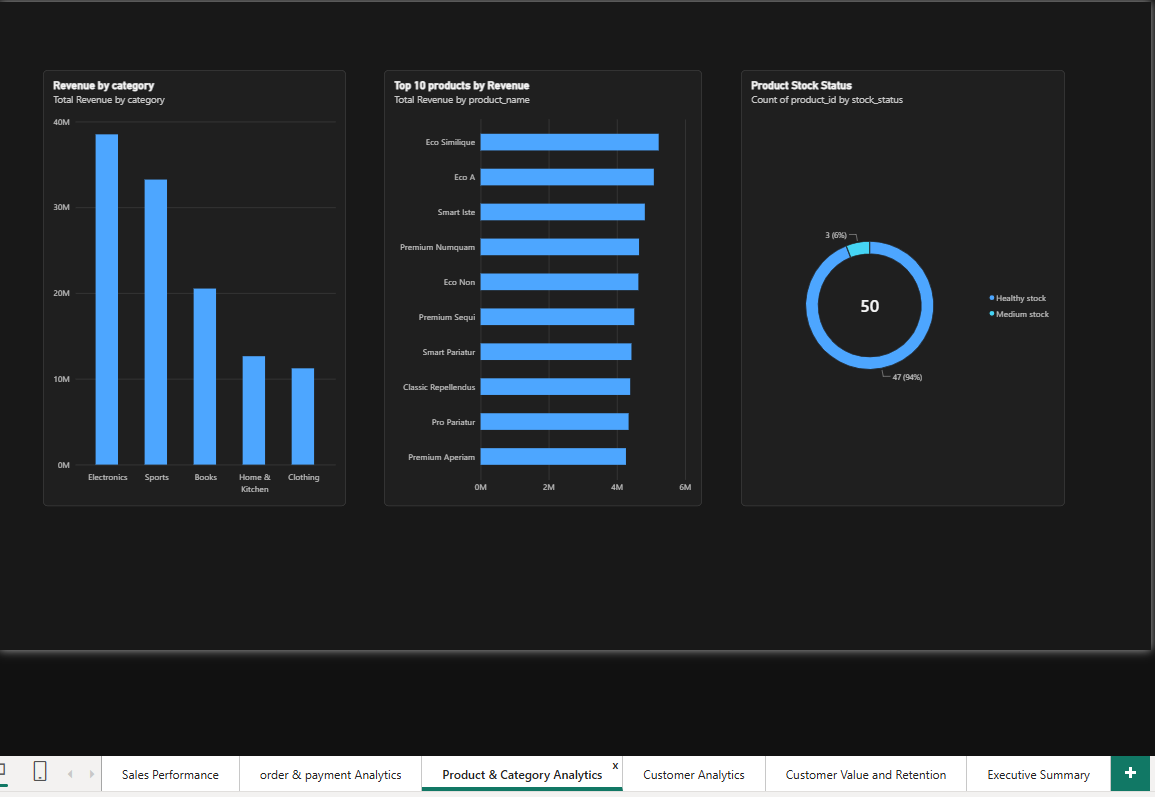

What the dashboard file says about the page in this screenshot:
{"tool":"powerbi","page":{"name":"Product & Category Analytics","canvas":[1920,1080],"ordinal":2},"visuals":[{"type":"clusteredColumnChart","title":"Revenue by category","fields":{"Category":["products.category"],"Y":["DateTable.Total Revenue"]},"box":[73.3,113.3,505,726.7],"z":0},{"type":"clusteredBarChart","title":"Top 10 products by Revenue","fields":{"Category":["products.product_name"],"Y":["DateTable.Total Revenue"]},"box":[641.7,113.3,530,726.7],"z":1000},{"type":"donutChart","title":"Product Stock Status","fields":{"Category":["products.stock_status"],"Y":["CountNonNull(products.product_id)"]},"box":[1236.7,113.3,540,726.7],"z":2000}]}

Visuals, with their boxes on the page's 1920x1080 design canvas (x1, y1, x2, y2). These are canvas units, not pixel positions in the 1155x797 screenshot, which may show the page scaled, cropped or inside an application window:
"Revenue by category" clusteredColumnChart: pyautogui.locateOnScreen(73, 113, 578, 840)
"Top 10 products by Revenue" clusteredBarChart: pyautogui.locateOnScreen(642, 113, 1172, 840)
"Product Stock Status" donutChart: pyautogui.locateOnScreen(1237, 113, 1777, 840)
